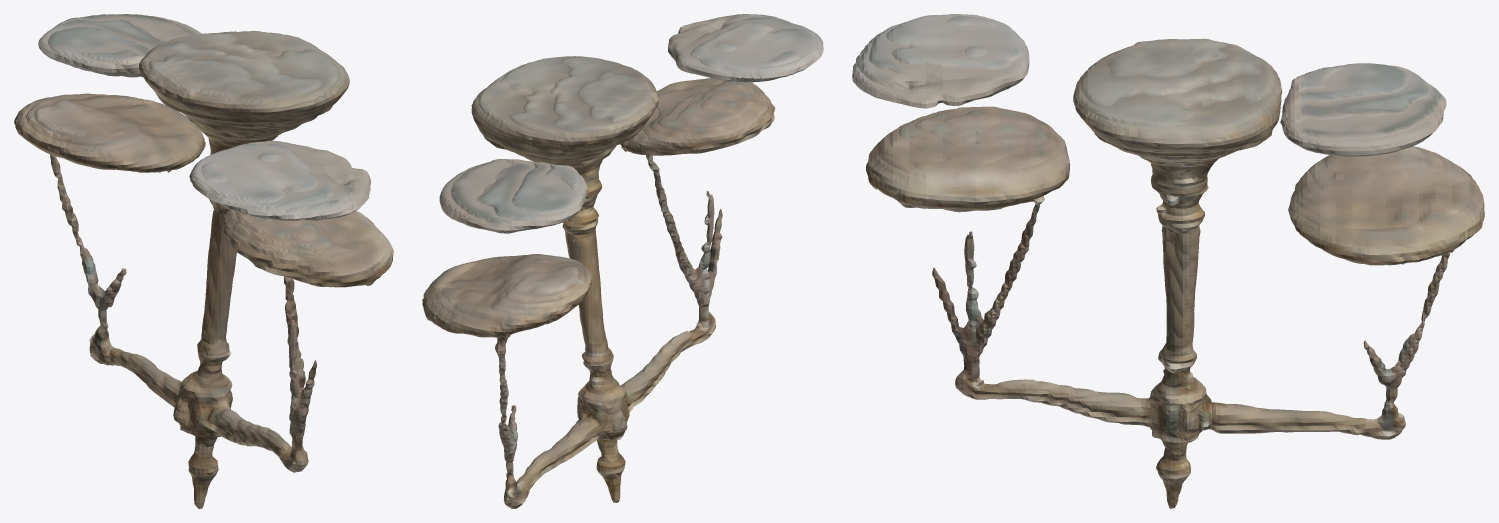
The model's file is balance.glb.
The picture shows the model from 3 angles, left to right: view 1: azimuth 30°, elevation 25°; view 2: azimuth 150°, elevation 25°; view 3: azimuth 270°, elevation 25°; orthographic projection. The views are drawn at different scales.
Size of the model in its own units: 0.4758 by 0.8267 by 1.04.
